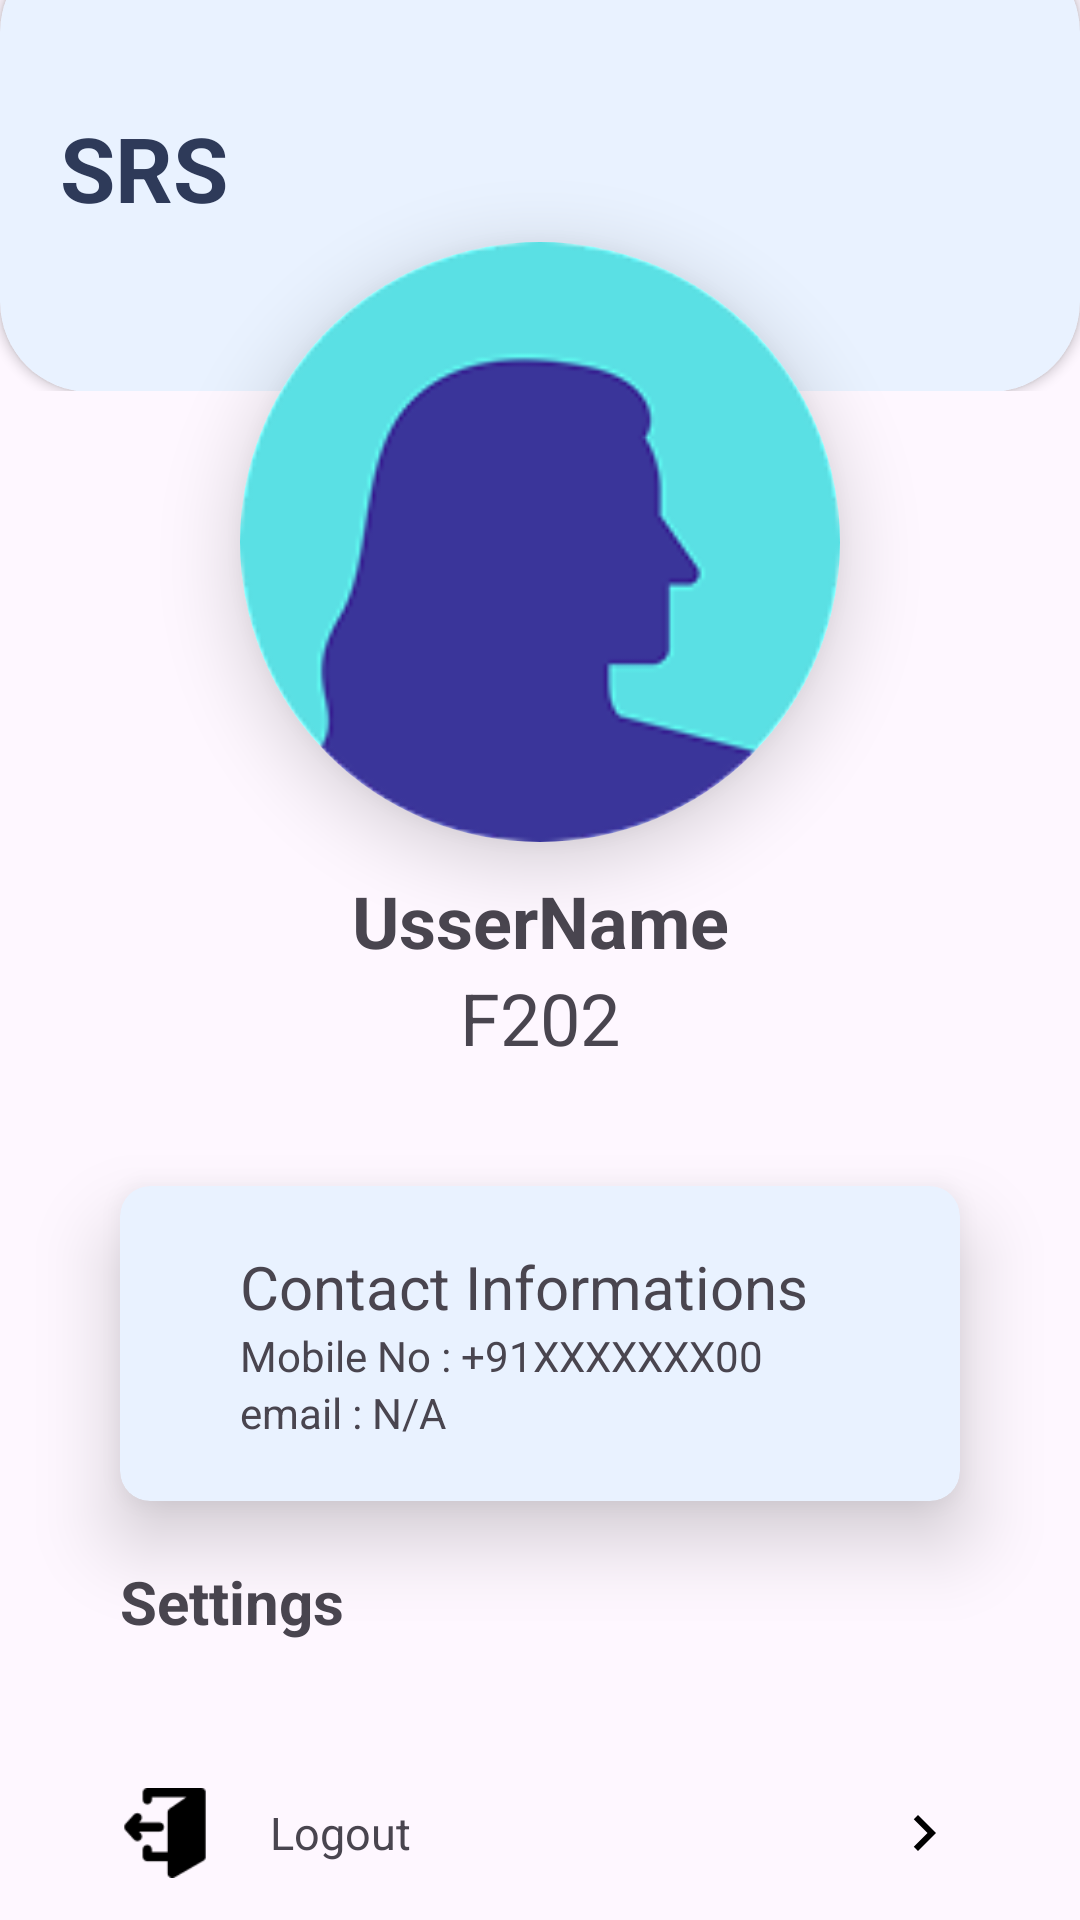

Icon bounding boxes for this 1080w x 1920h phone screenshot, format (x1, y1, x2, y2):
chevron right: (914, 1815, 936, 1851)
